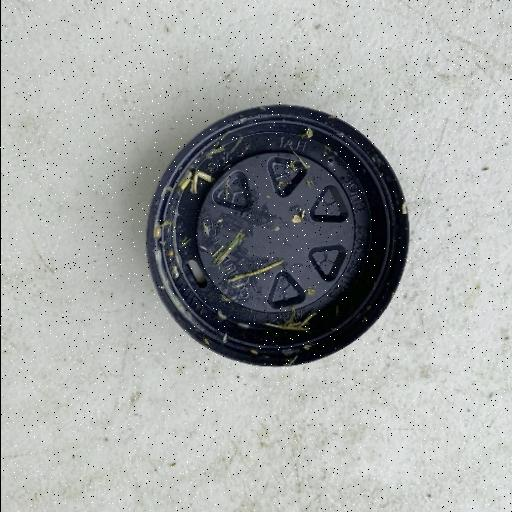Plastic: (142, 102, 412, 370)
